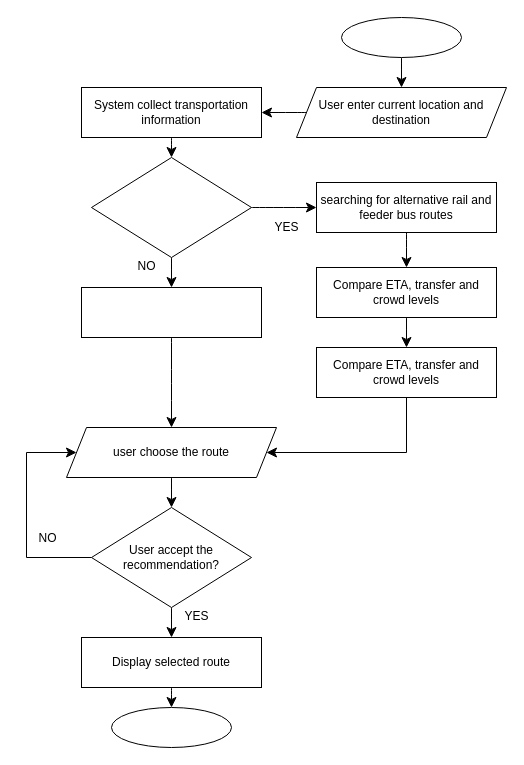
This 524x765 diagram has some shape labels left out. Here are the shapes that lost their labels. From the top down, the centre of each, then its label:
At [401,37]: "START".
At [171,207]: "is there any service disruption?".
At [171,312]: "Display available route information".
At [171,727]: "END".
